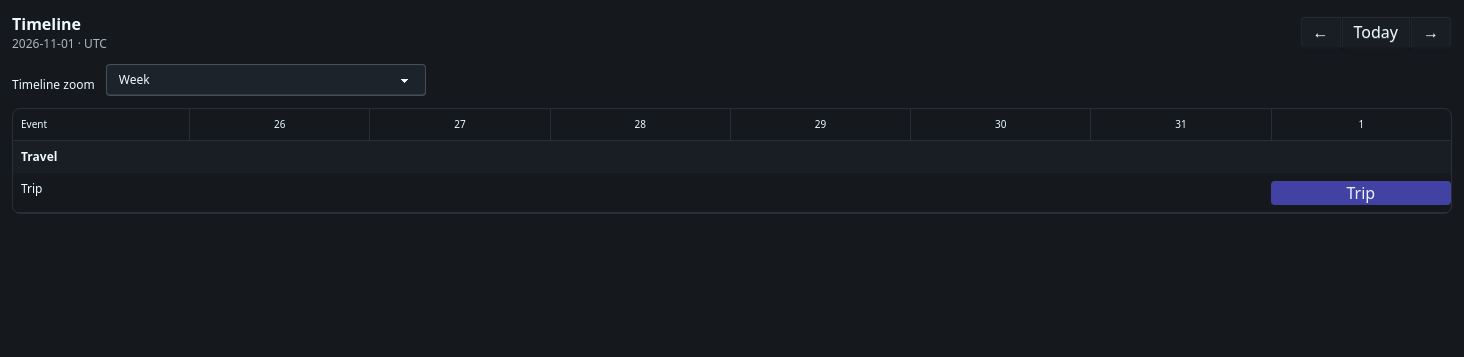
Test: Gantt works independently with generic timeline items
Click the button with aria-label "Open Trip". click: [1361, 193]
box: [1271, 181, 1451, 205]
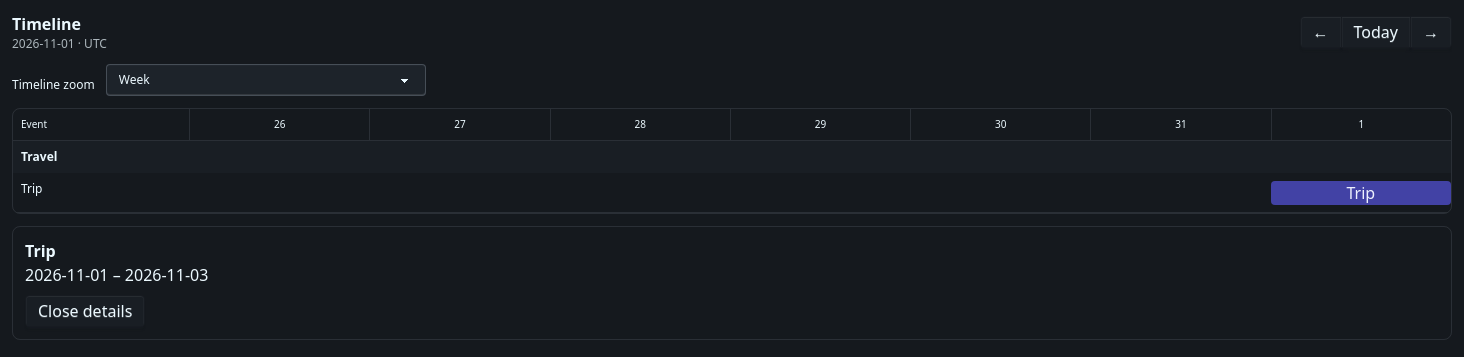
Now the element named "Timeline item details" shows "Trip", box [25, 240, 56, 262]
